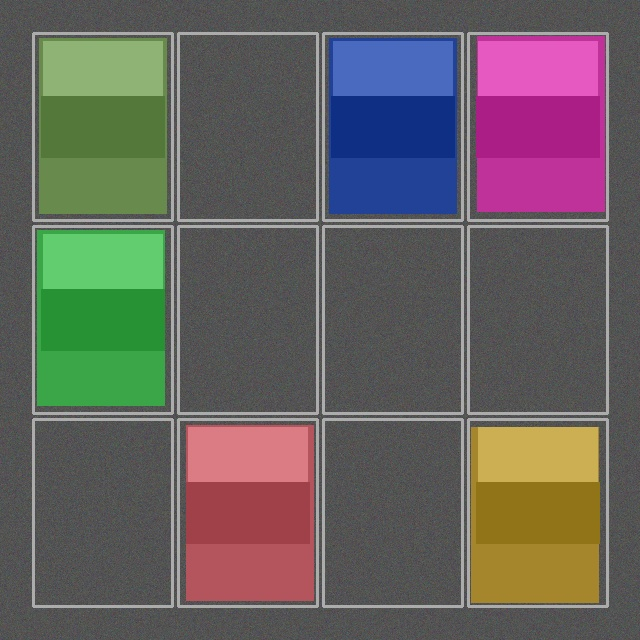space-empty: (180, 35, 315, 218), (180, 228, 315, 411), (325, 228, 460, 411), (470, 228, 605, 411), (35, 421, 170, 604), (325, 421, 460, 604)
space-occupied: (35, 35, 170, 218), (325, 35, 460, 218), (470, 35, 605, 218), (35, 228, 170, 411), (180, 421, 315, 604), (470, 421, 605, 604)
